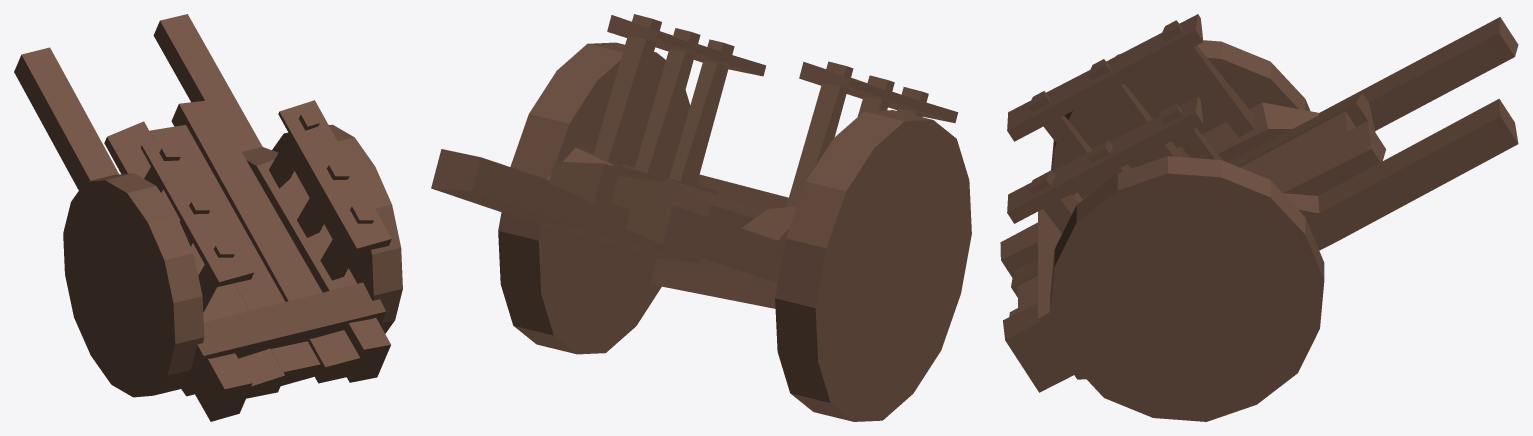
The model's file is Cart.fbx.
The picture shows the model from 3 angles, left to right: view 1: azimuth 30°, elevation 25°; view 2: azimuth 150°, elevation 25°; view 3: azimuth 270°, elevation 25°; orthographic projection. The views are drawn at different scales.
Parts seen in each view (by area): view 1: Cart; view 2: Cart; view 3: Cart.
Boxes of the visible parts, <box> form: Cart: <box>14,14,402,421</box>; Cart: <box>431,14,971,421</box>; Cart: <box>1000,14,1518,421</box>.
Bounding box in the file's own units: 96.35 × 96.74 × 155.
